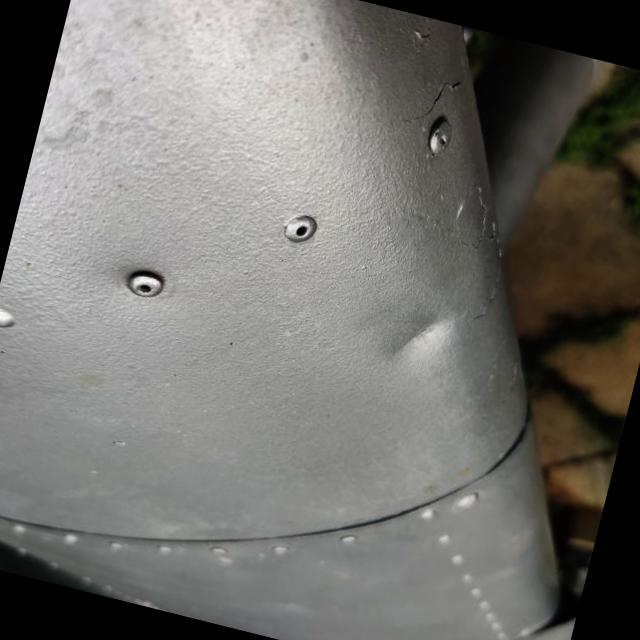dent: (352, 277, 484, 403)
